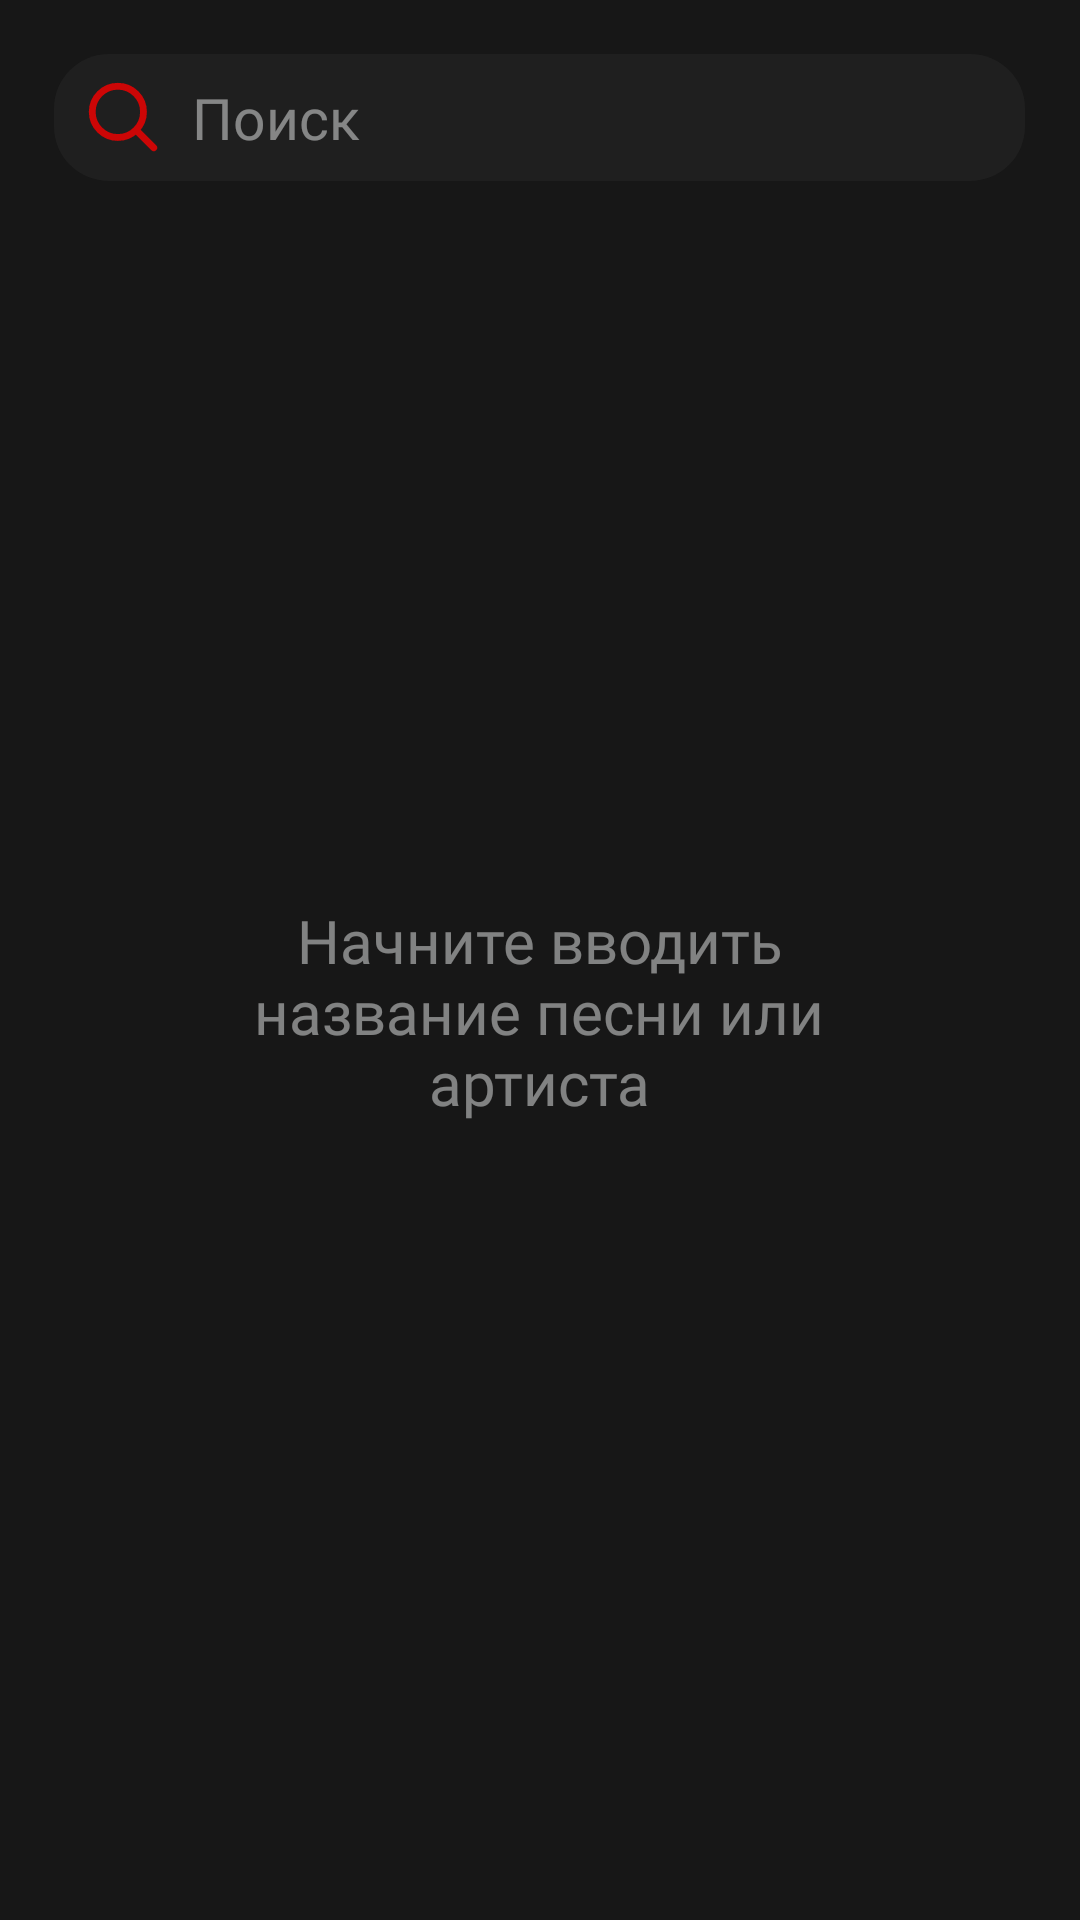

Screen size 1080x1920. Icon name, then its box in pixels as (x1, y1, x2, y2):
search: (88, 83, 158, 152)
